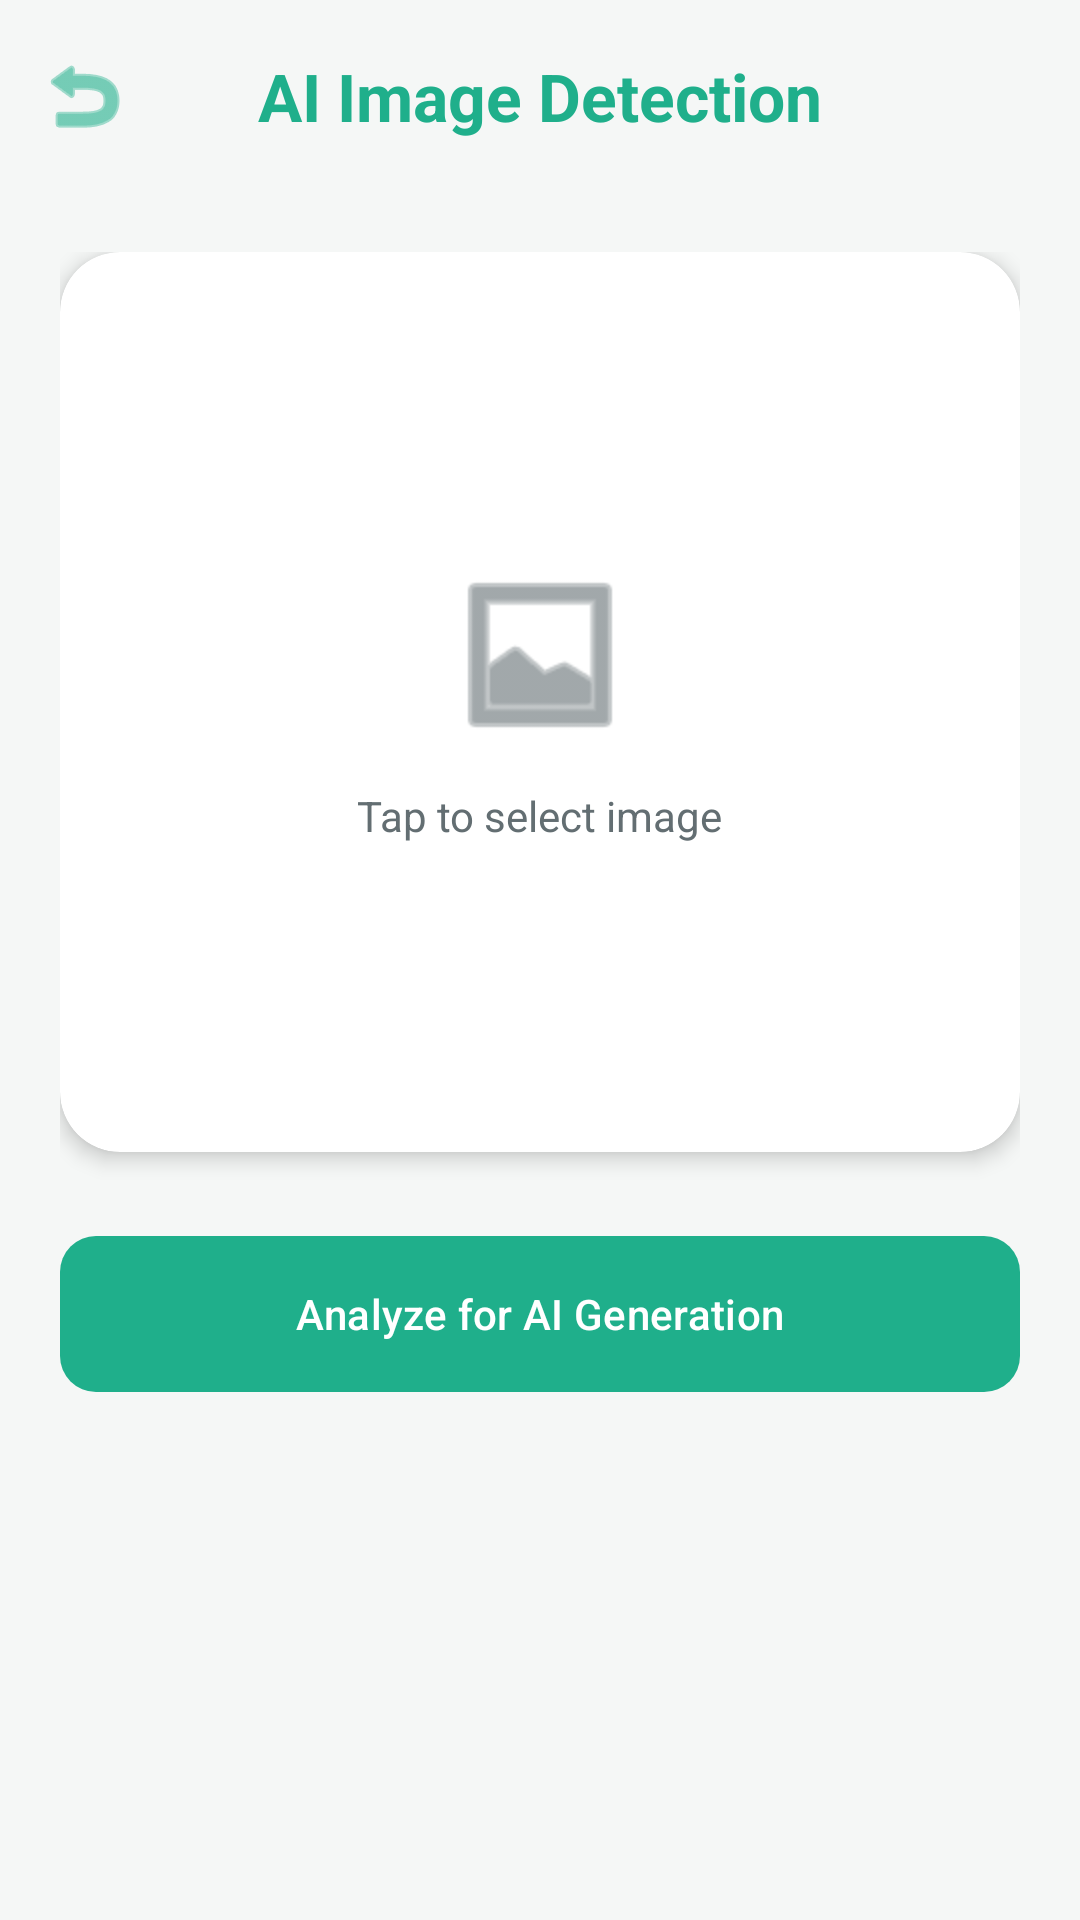

Where icons sit on this 1080w x 1920h app screen, as box(x1, y1, x2, y2):
gallery: box(468, 583, 612, 727)
